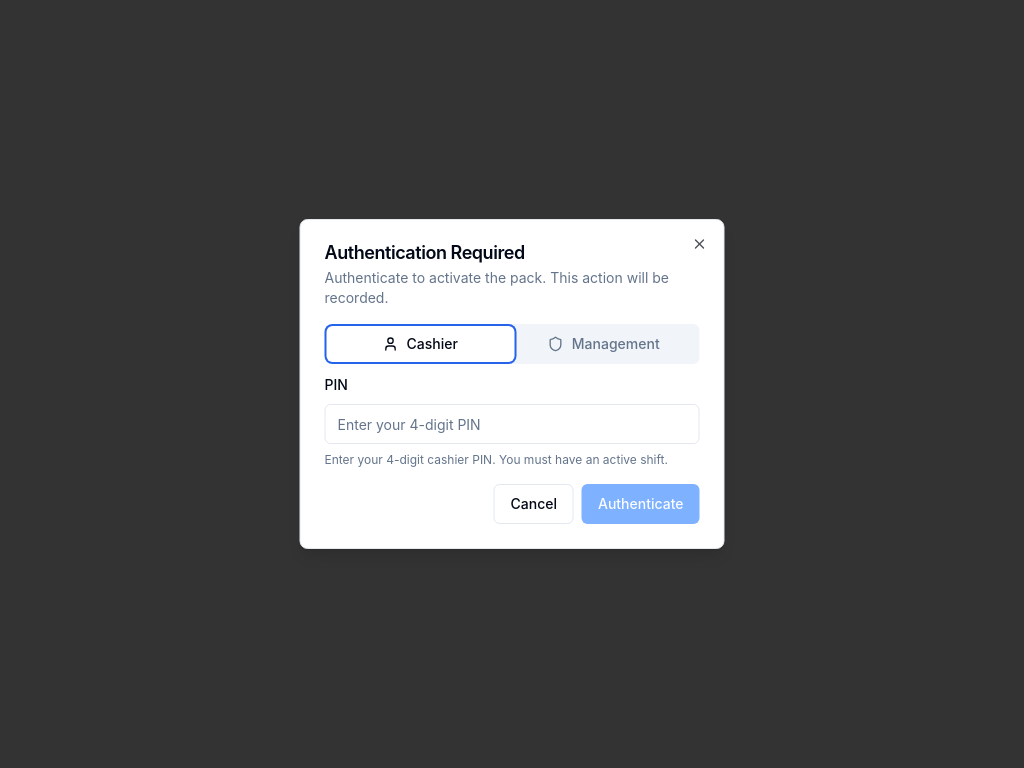
Scenario: LotteryAuthModal › Component Rendering › LAM-004: should render email and password inputs in Management tab
Note: Click on Management tab
Step 1. Click the tab with test id "management-tab" → coordinates (604, 344), box [512,328,696,360]
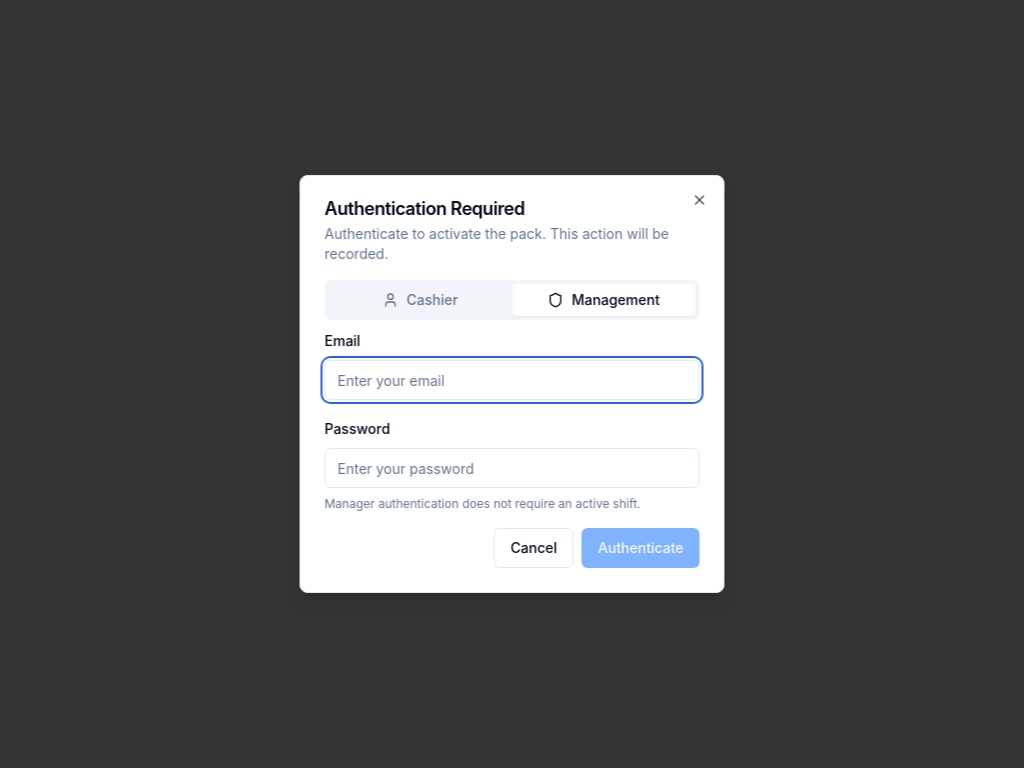
expect the field with test id "email-input" is shown: met, box [324,360,700,400]
expect the password field with test id "password-input" is shown: met, box [324,448,700,488]
